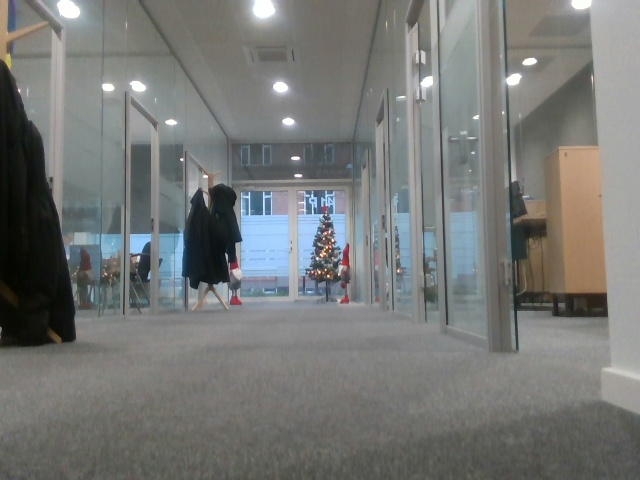alfa: (9, 301, 39, 331)
